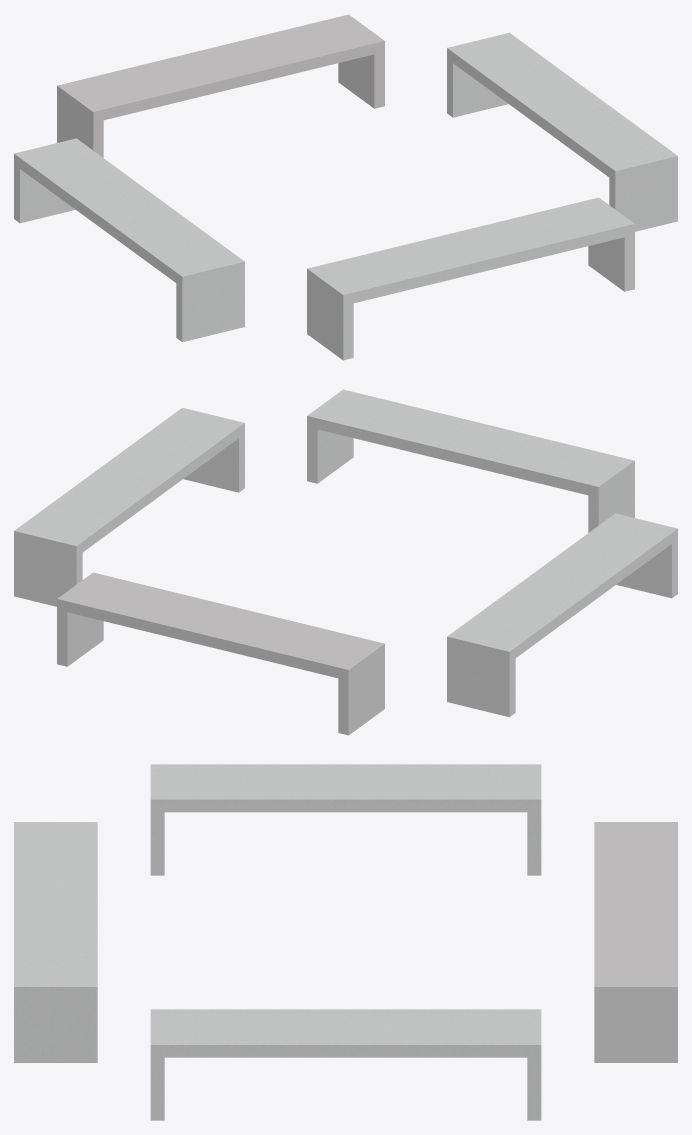
The model's file is benches.glb.
3 views of the same model, one above another, from view 1: azimuth 30°, elevation 25°; view 2: azimuth 150°, elevation 25°; view 3: azimuth 270°, elevation 25° (orthographic). The views are drawn at different scales.
Parts seen in each view (by area): view 1: benches.002; view 2: benches.002; view 3: benches.002.
Part boxes in pixels (x1,y1,x2,y2): benches.002: [14, 14, 677, 360]; benches.002: [14, 389, 677, 735]; benches.002: [14, 764, 677, 1120].
Bounding box in the file's own units: 11.89 × 1.5 × 11.89.
1 material, 1 textured.
